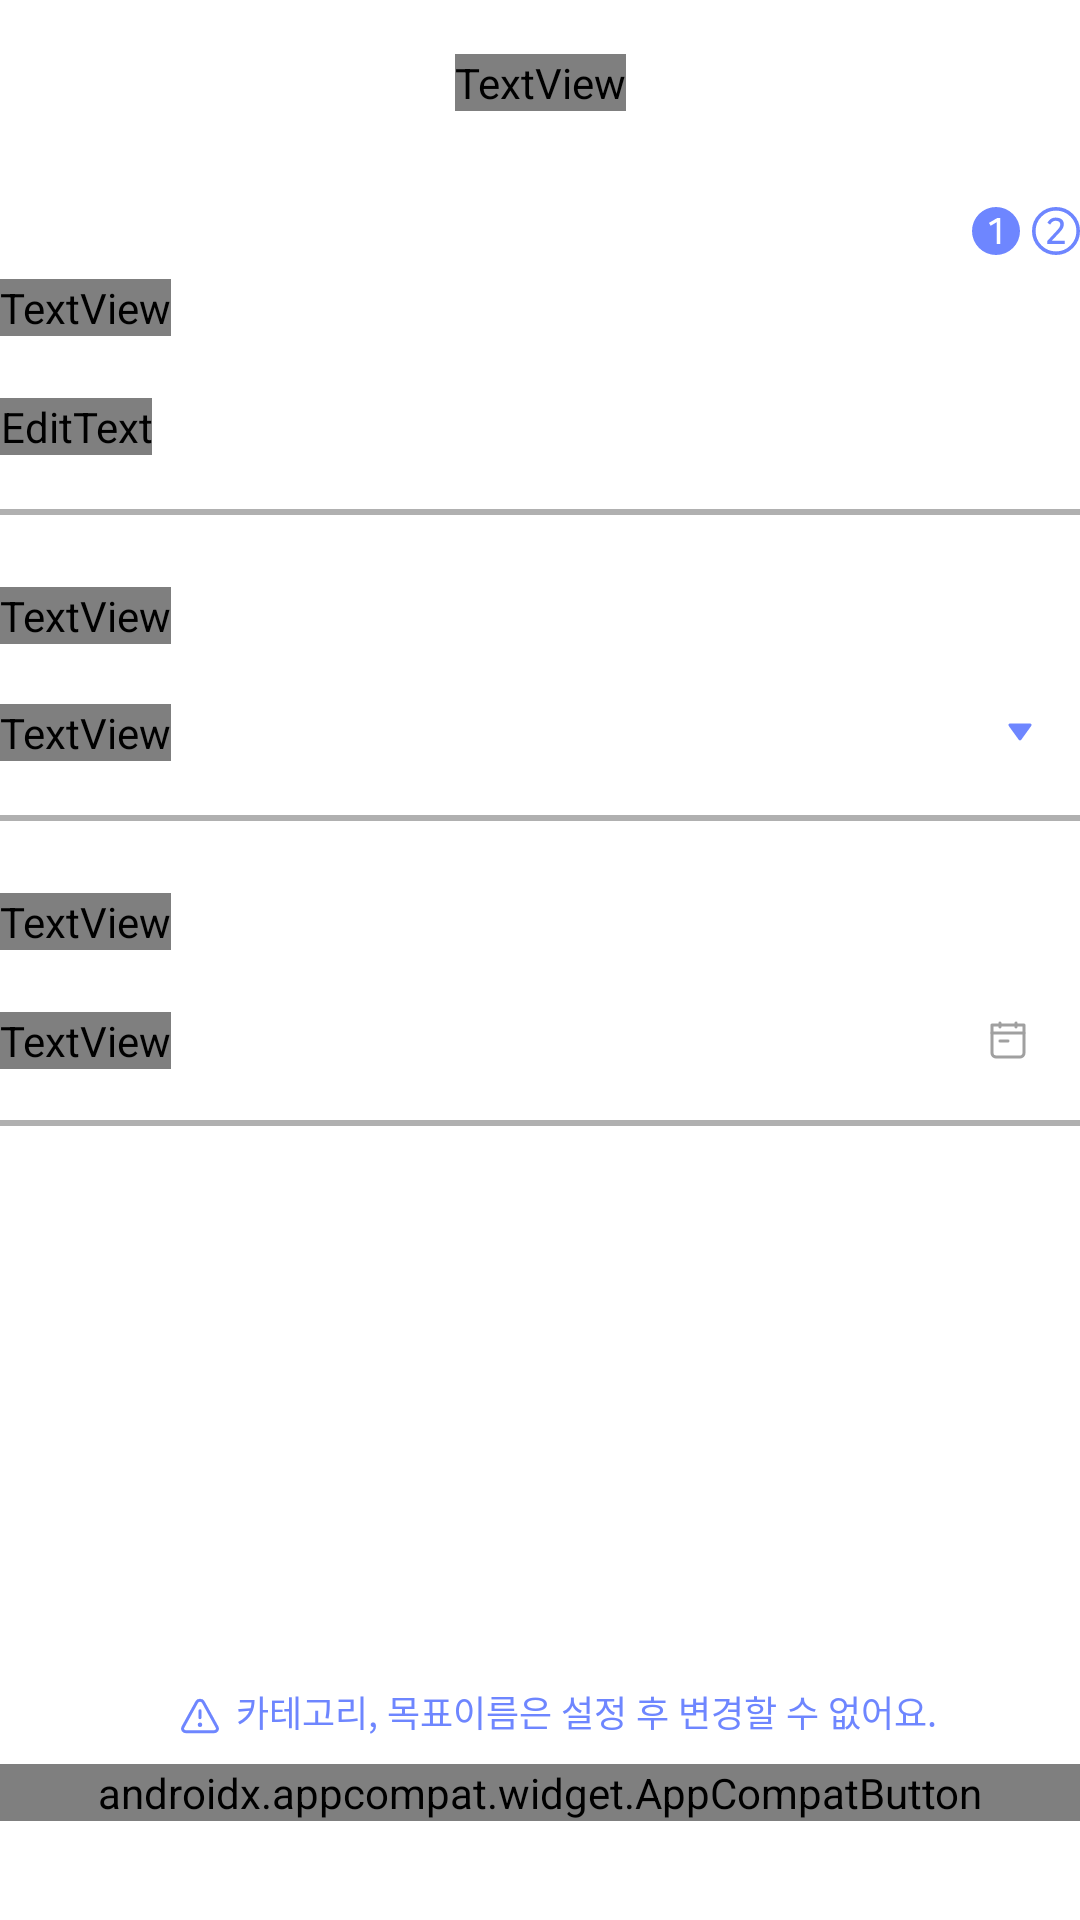

Named icons in this screenshot (1080x1920) and their centers, [x,y]:
alert error: [200,1716]
create goal first step: [1026,231]
